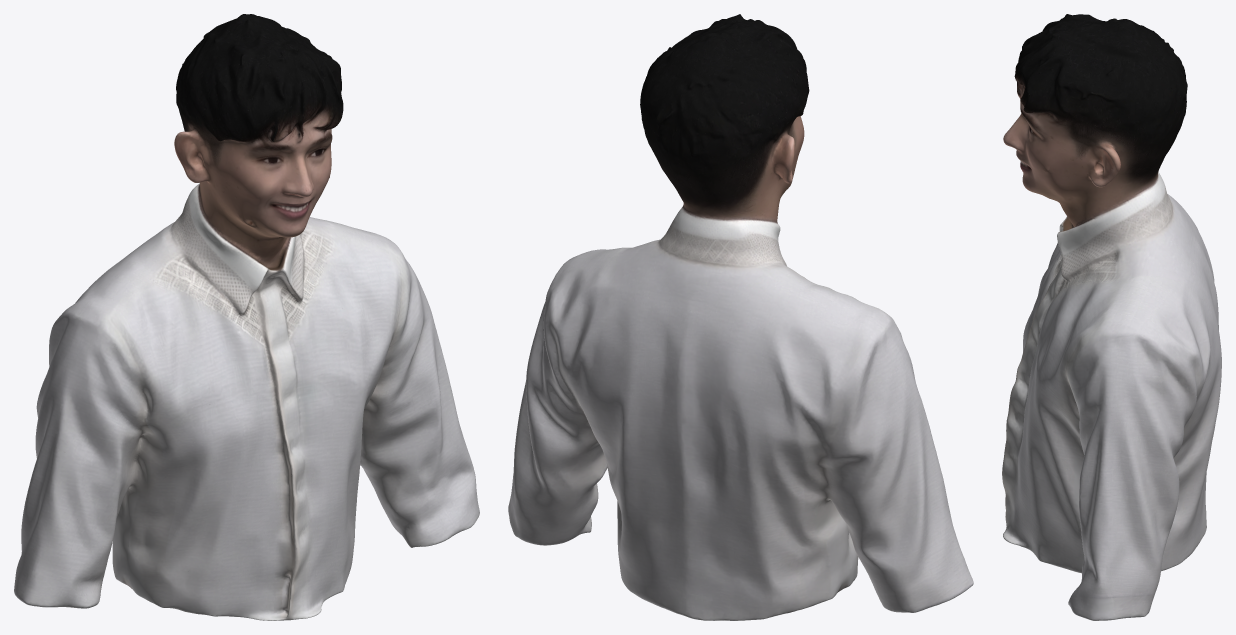
The model's file is josh_bust.glb.
The picture shows the model from 3 angles, left to right: view 1: azimuth 30°, elevation 25°; view 2: azimuth 150°, elevation 25°; view 3: azimuth 270°, elevation 25°; orthographic projection. The views are drawn at different scales.
Bounding box in the file's own units: 1.64 × 1.9 × 0.7297.
1 material, 1 textured.
